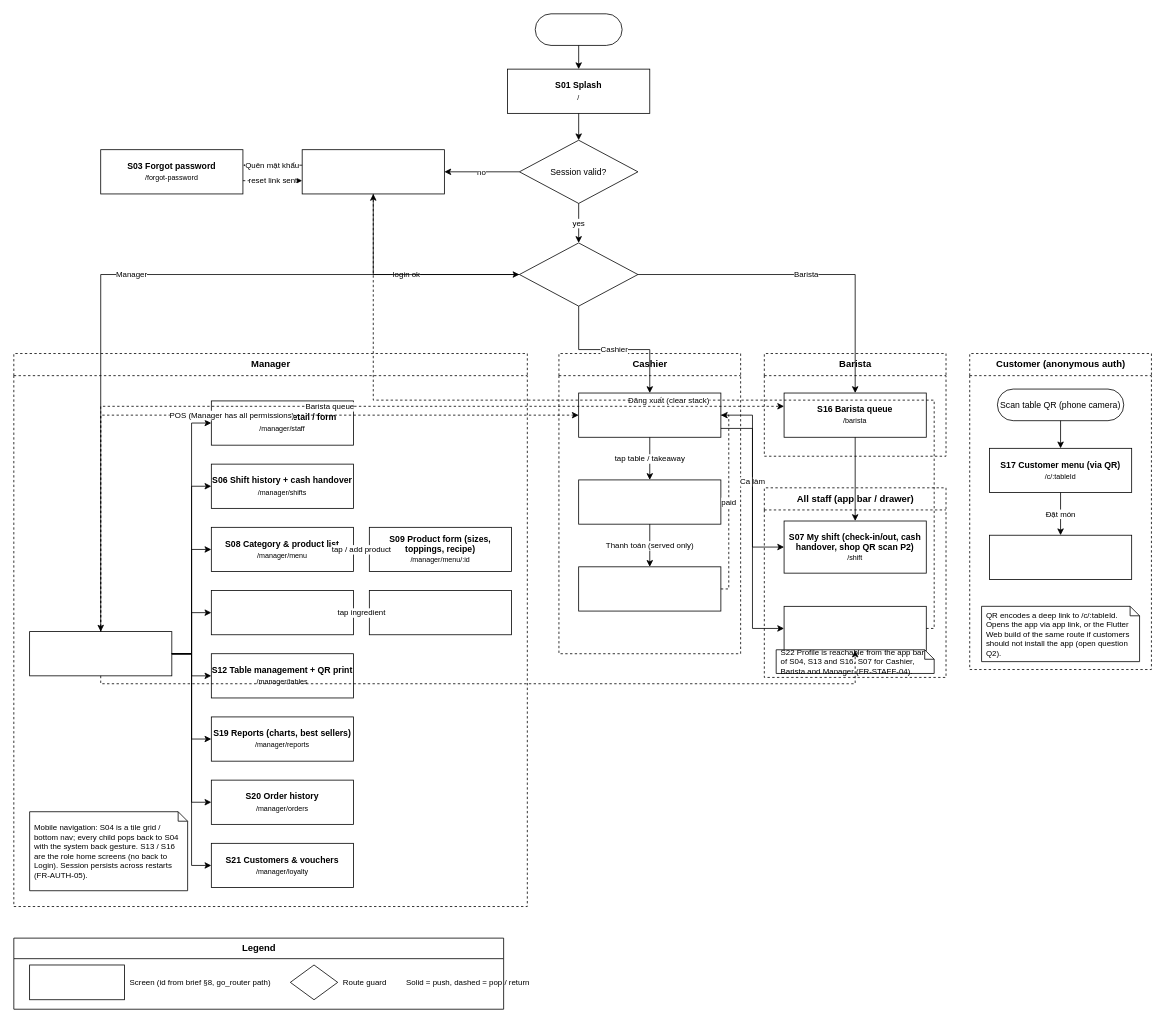
Image size: 1165x1023. Some labels were removed from this diagram. Here are the shapes that lost their labels. From the top down, the centre of each, then its label:
At point (578, 29): "App launch".
At point (372, 171): "S02 Login /login".
At point (578, 274): "Role?".
At point (649, 414): "S13 Table map /pos".
At point (649, 501): "S14 Order editor (menu + cart) /pos/order/:id".
At point (1060, 556): "S18 Customer order status /c/:tableId/order/:id".
At point (649, 588): "S15 Payment /pos/order/:id/pay".
At point (282, 612): "S10 Ingredient list / form / stocktake /manager/inventory".
At point (440, 612): "S11 Stock movement history /manager/inventory/:id".
At point (854, 628): "S22 Profile / settings /profile".
At point (100, 653): "S04 Manager home / dashboard /manager".
At point (76, 982): "Sxx Name /route".
